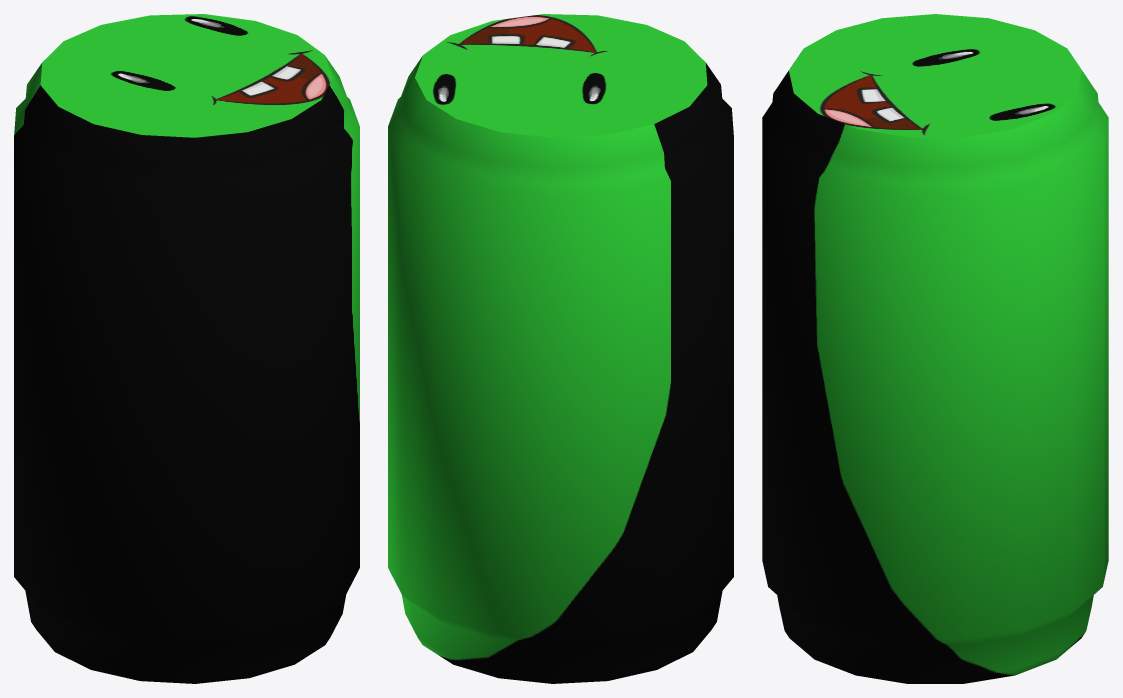
File: banka.FBX
3 views of the same model, side by side, from view 1: azimuth 30°, elevation 25°; view 2: azimuth 150°, elevation 25°; view 3: azimuth 270°, elevation 25° (orthographic).
Parts seen in each view (by area): view 1: Cylinder001; view 2: Cylinder001; view 3: Cylinder001.
Boxes of the visible parts, x1,y1,x2,y2 form: Cylinder001: (14,14,359,683); Cylinder001: (388,14,733,683); Cylinder001: (762,14,1108,683).
Size of the model in its own units: 48.8 by 85 by 49.01.
